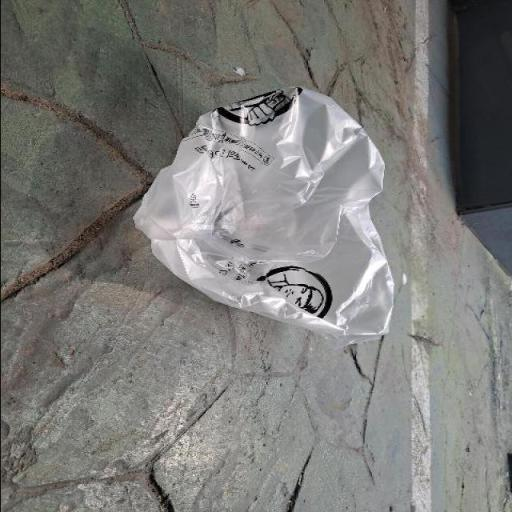plastic-bag: (128, 83, 398, 339)
